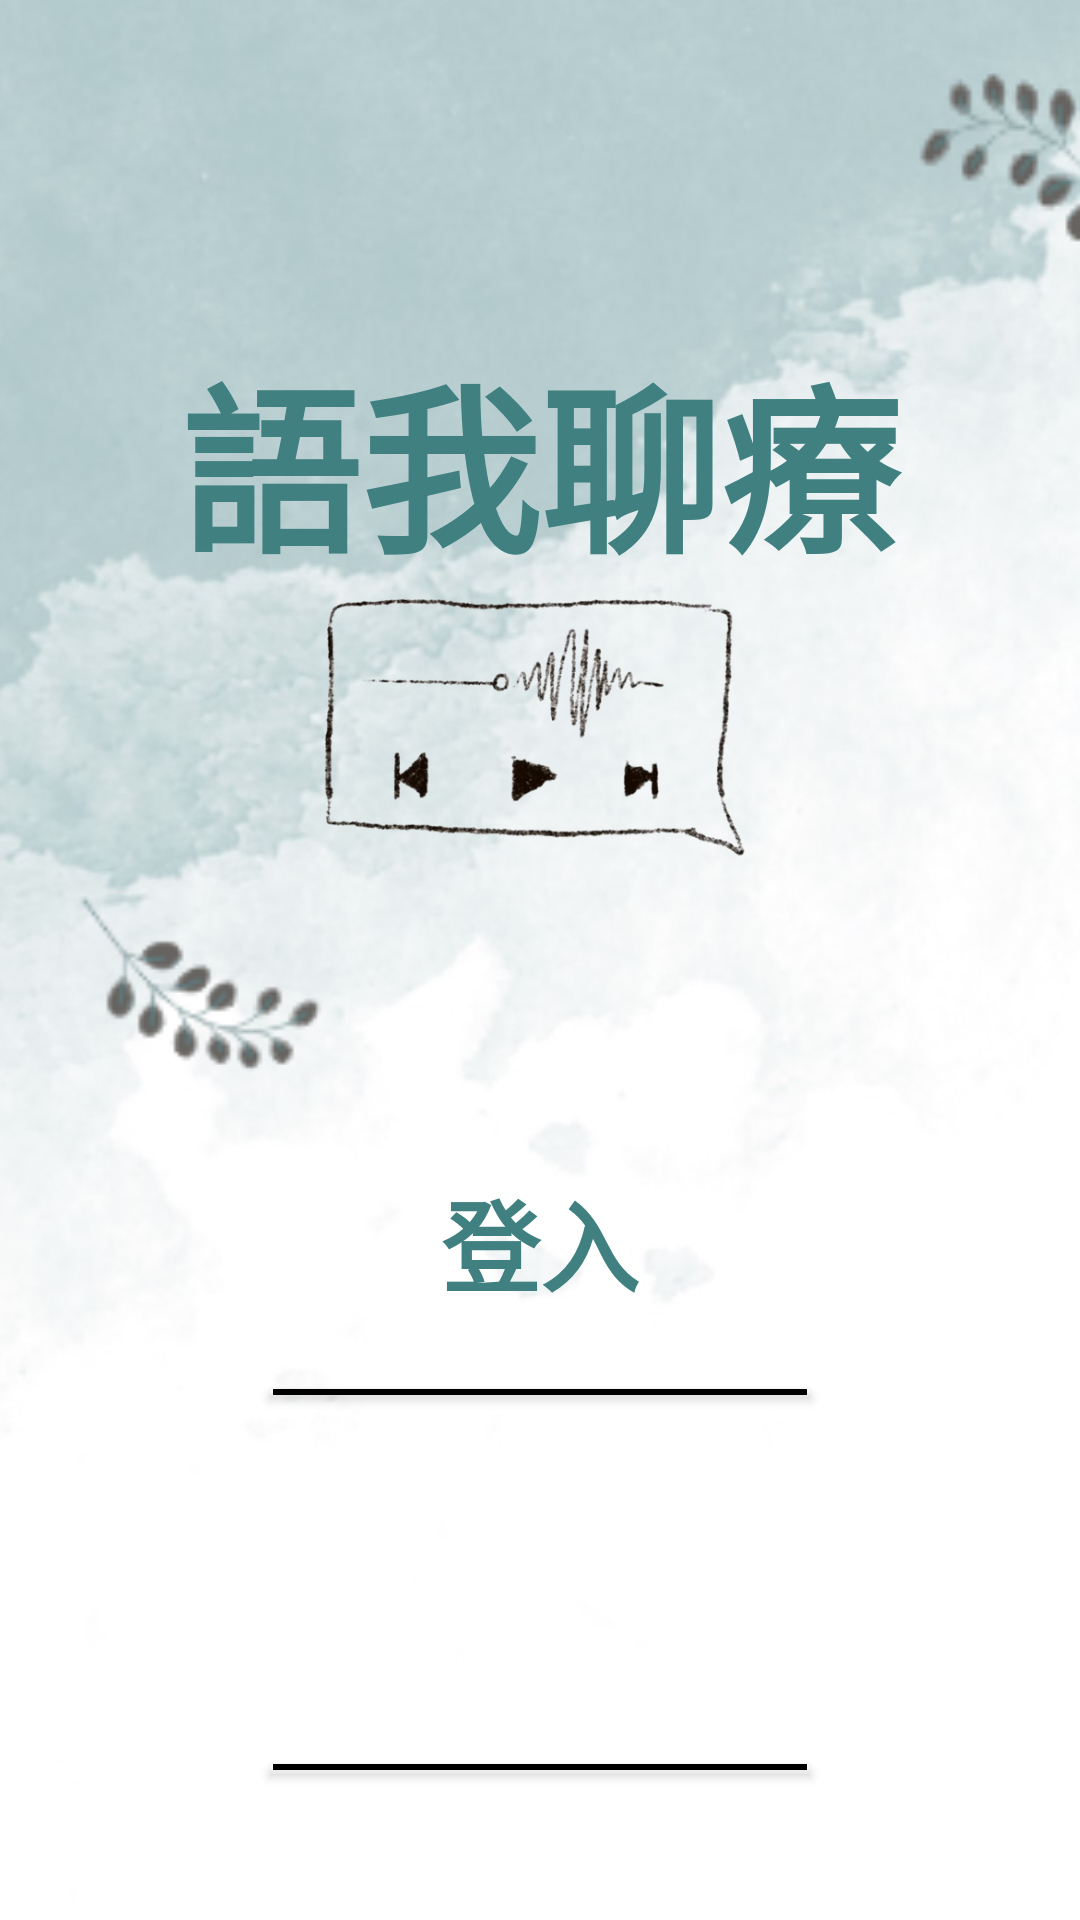

Icons on this 1080px×1920px Android screen, each with the point to tap as point (x, y):
lleaf: point (210, 1020)
